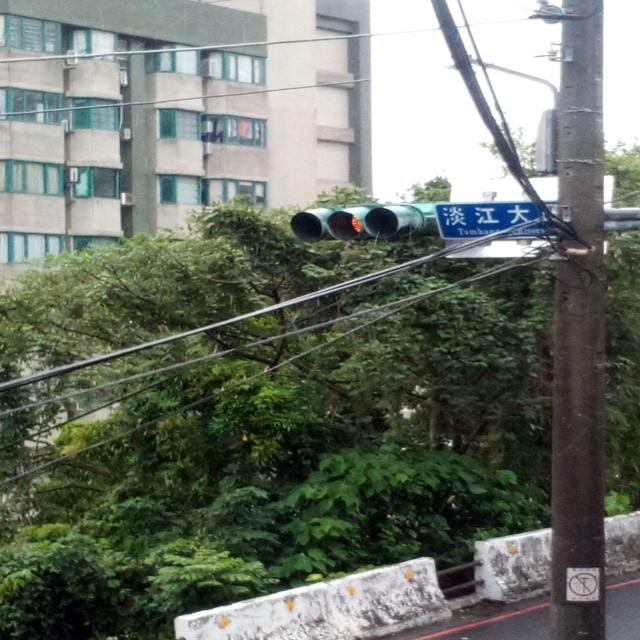yellow light: (290, 204, 426, 244)
